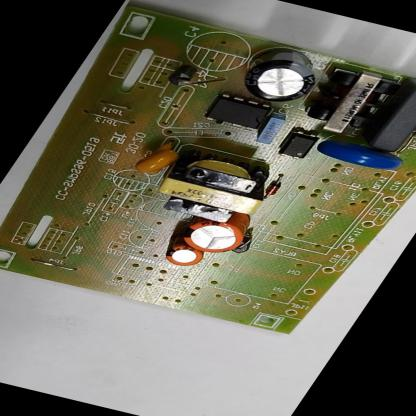Cap1: (174, 216, 252, 257)
Cap2: (160, 242, 206, 270)
Cap3: (236, 43, 330, 107)
MOSFET: (202, 93, 274, 132)
Mov: (313, 140, 406, 175)
Transformer: (149, 148, 284, 228), (296, 66, 402, 138)
